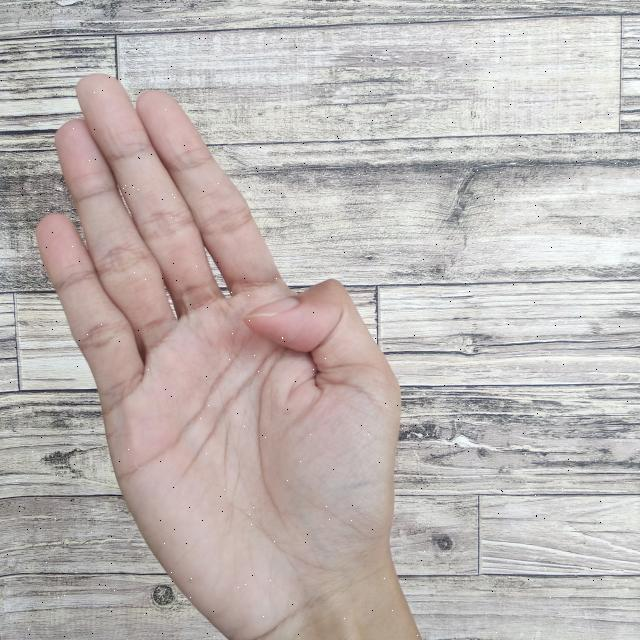B: (26, 58, 435, 640)
